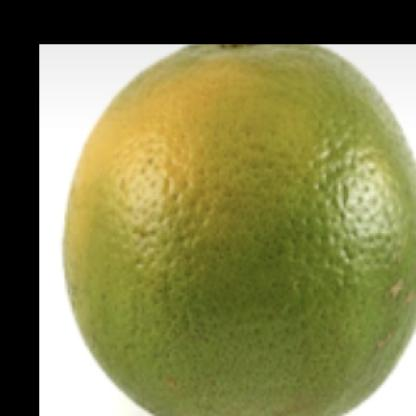fresh: (66, 39, 416, 416)
